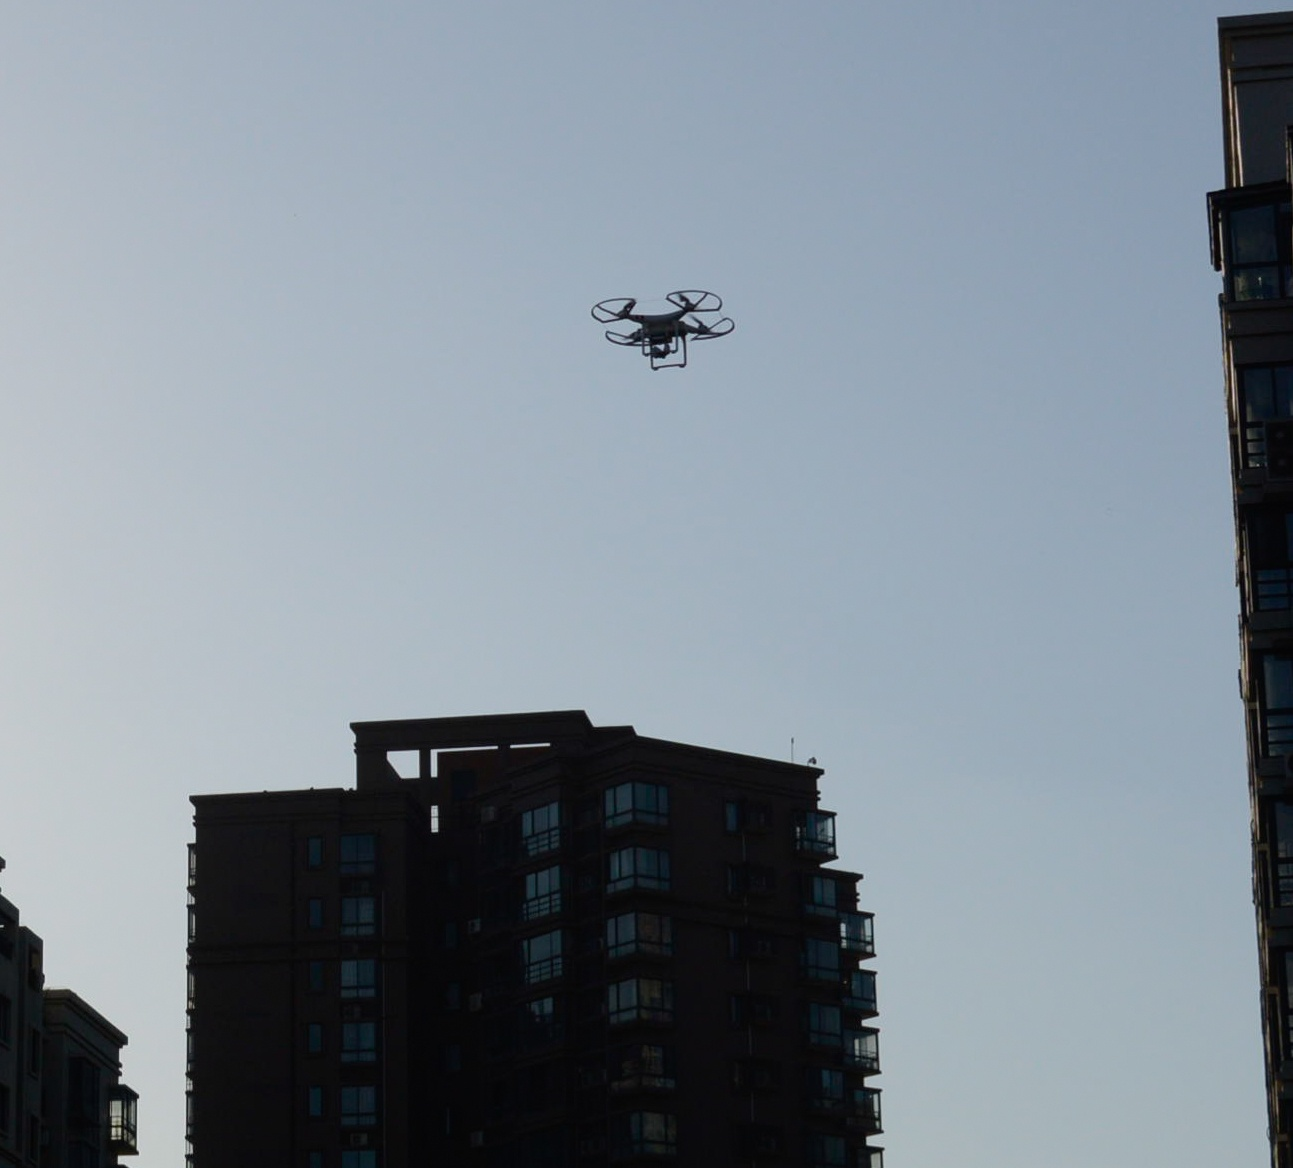DJI: (590, 285, 737, 376)
